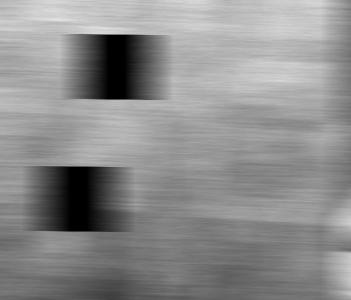Airbag: (0, 0, 351, 300), (339, 0, 351, 300)
